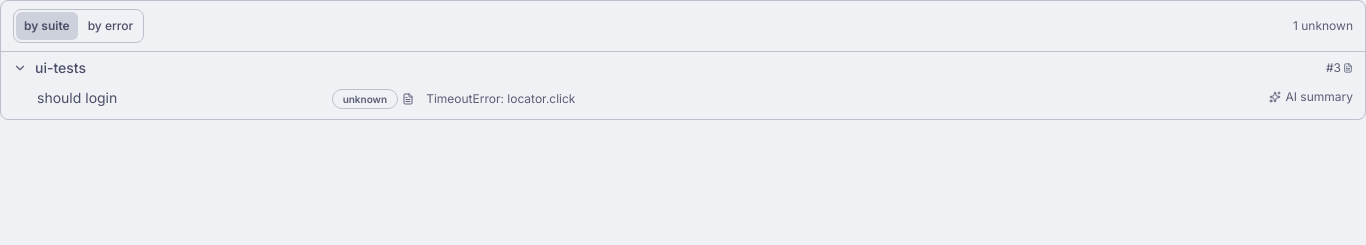
it: RunFailures › AI failure summary › toggles a collapsed summary panel for the failure build and history id
Click the button with aria-label "toggle ai failure summary" at (1311, 97), box [1270,85,1353,109]
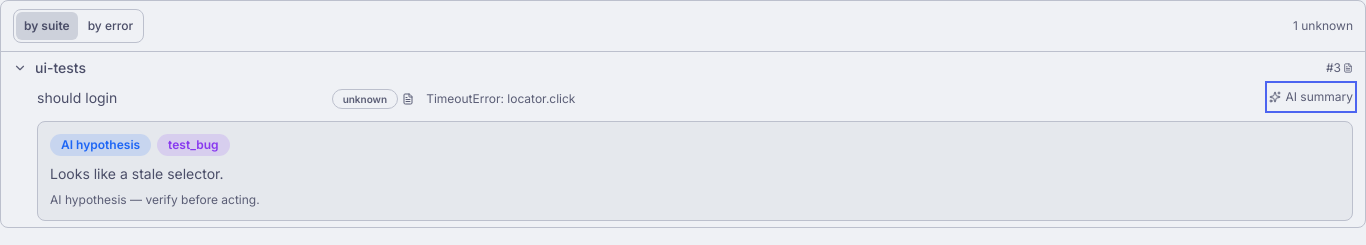
Now the text "AI hypothesis" is shown, box [50,134,151,156]
Click the button with aria-label "toggle ai failure summary" at (1311, 97), box [1270,85,1353,109]
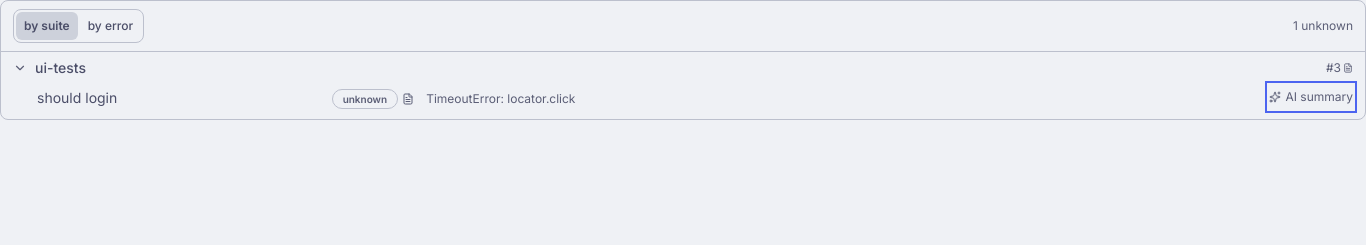
Now the text "AI hypothesis" is gone
